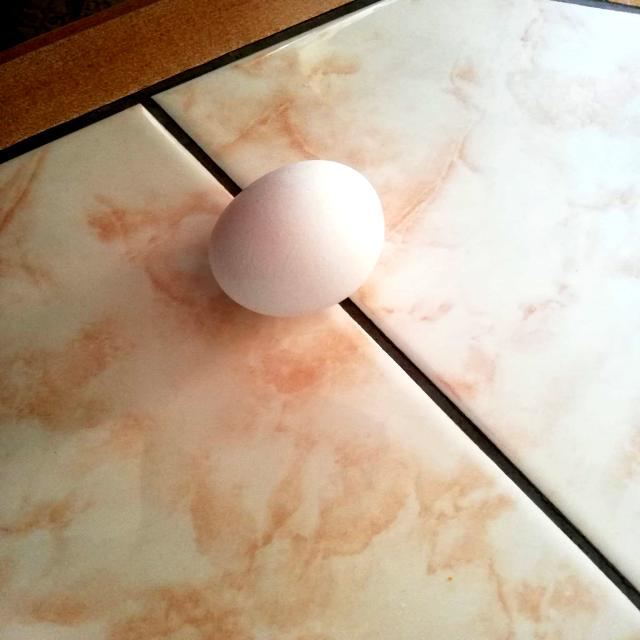egg: (202, 154, 390, 320)
